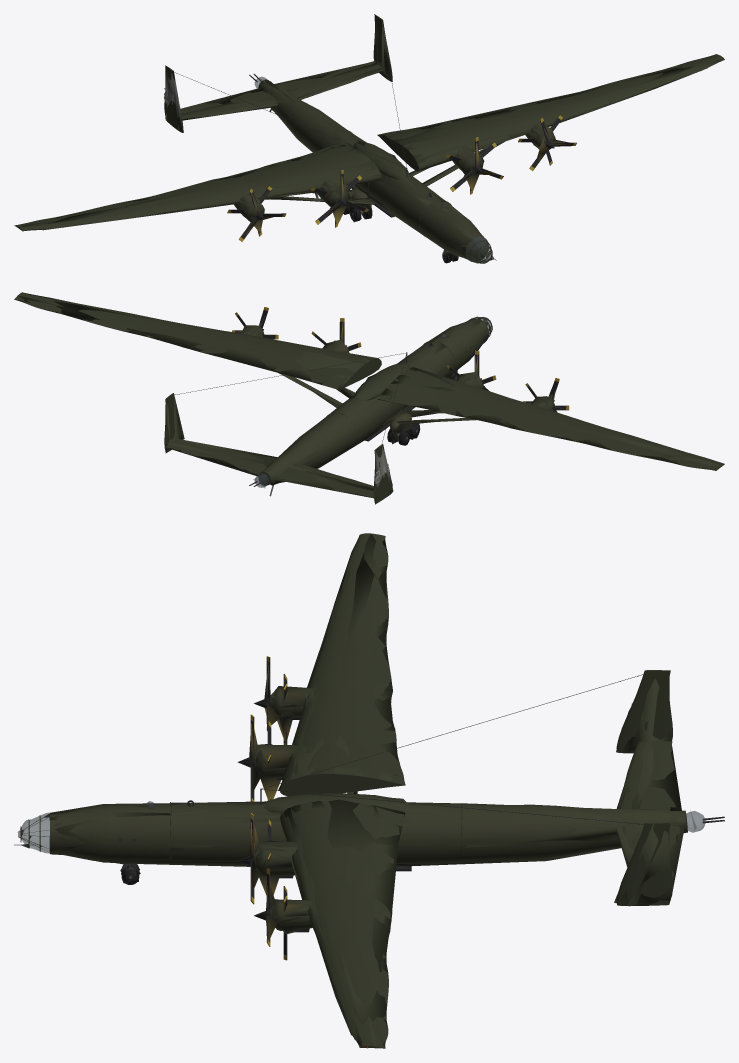
The model's file is bomber_e.glb.
3 views of the same model, one above another, from view 1: azimuth 30°, elevation 25°; view 2: azimuth 150°, elevation 25°; view 3: azimuth 270°, elevation 25° (orthographic). The views are drawn at different scales.
Visible parts, largest first — view 1: L0_01_hull_opaque, L1_03_hull_opaque, L2_04_hull_opaque, L0_00_hull_glass; view 2: L0_01_hull_opaque, L1_03_hull_opaque, L2_04_hull_opaque; view 3: L0_01_hull_opaque, L2_04_hull_opaque, L1_03_hull_opaque, L0_00_hull_glass.
Part boxes in pixels (x1,y1,x2,y2): L0_01_hull_opaque: (14,14,724,263); L1_03_hull_opaque: (19,17,723,263); L2_04_hull_opaque: (41,21,707,261); L0_00_hull_glass: (254,76,492,263); L0_01_hull_opaque: (14,292,724,503); L1_03_hull_opaque: (16,292,723,504); L2_04_hull_opaque: (52,300,698,498); L0_01_hull_opaque: (14,533,724,1048); L2_04_hull_opaque: (21,552,684,1035); L1_03_hull_opaque: (20,533,687,1046); L0_00_hull_glass: (18,801,705,853).
Size of the model in its own units: 60.44 by 7.52 by 35.41.
